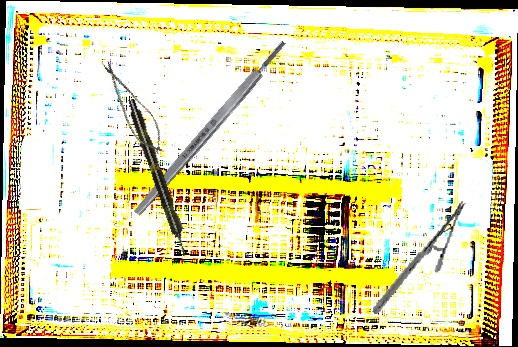Handpiece: (124, 97, 192, 258)
Micro Scissor: (92, 54, 173, 162)
Needle Holder: (372, 189, 466, 326)
Scalpel Handle: (131, 38, 290, 218)
